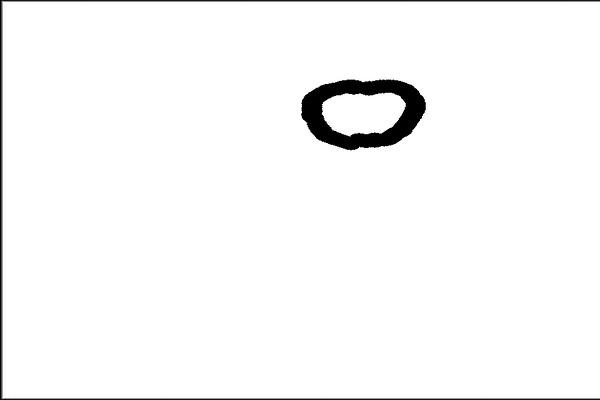O: (289, 69, 437, 161)
